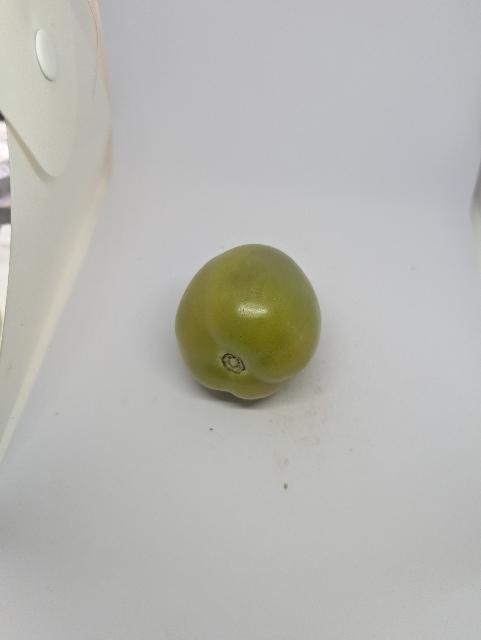green: (156, 228, 330, 414)
